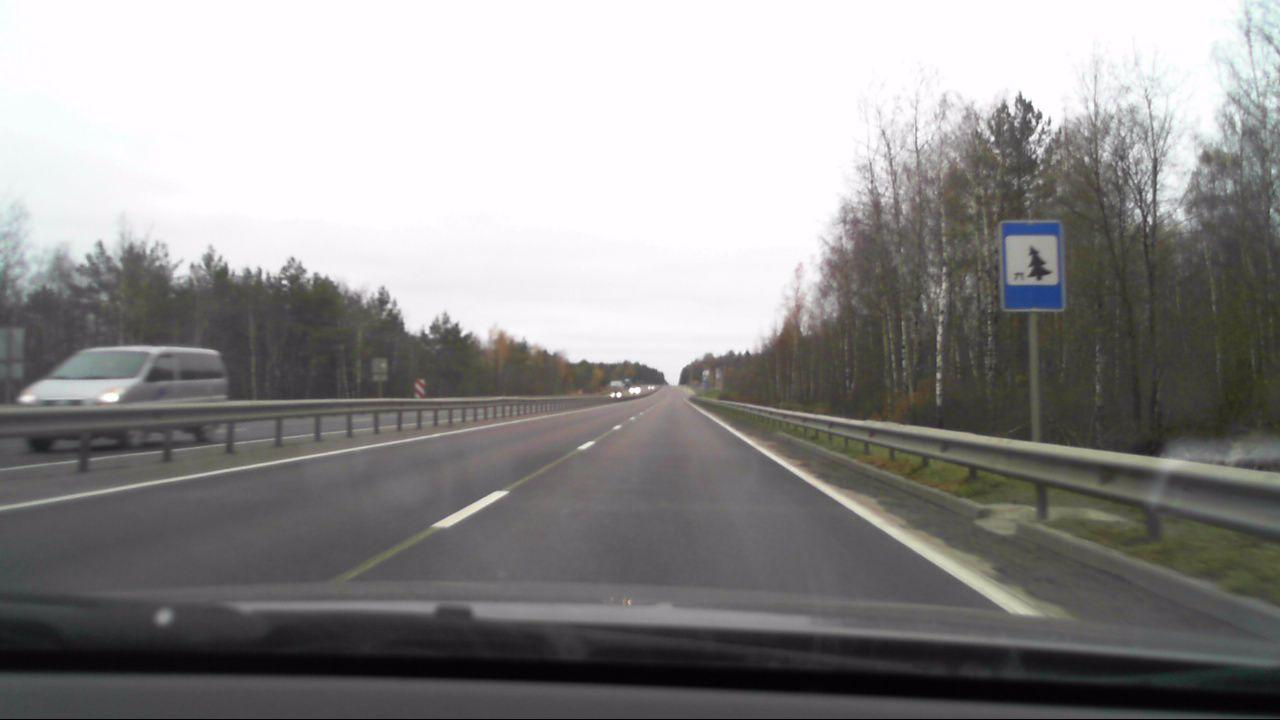7_11: (997, 221, 1063, 312)
